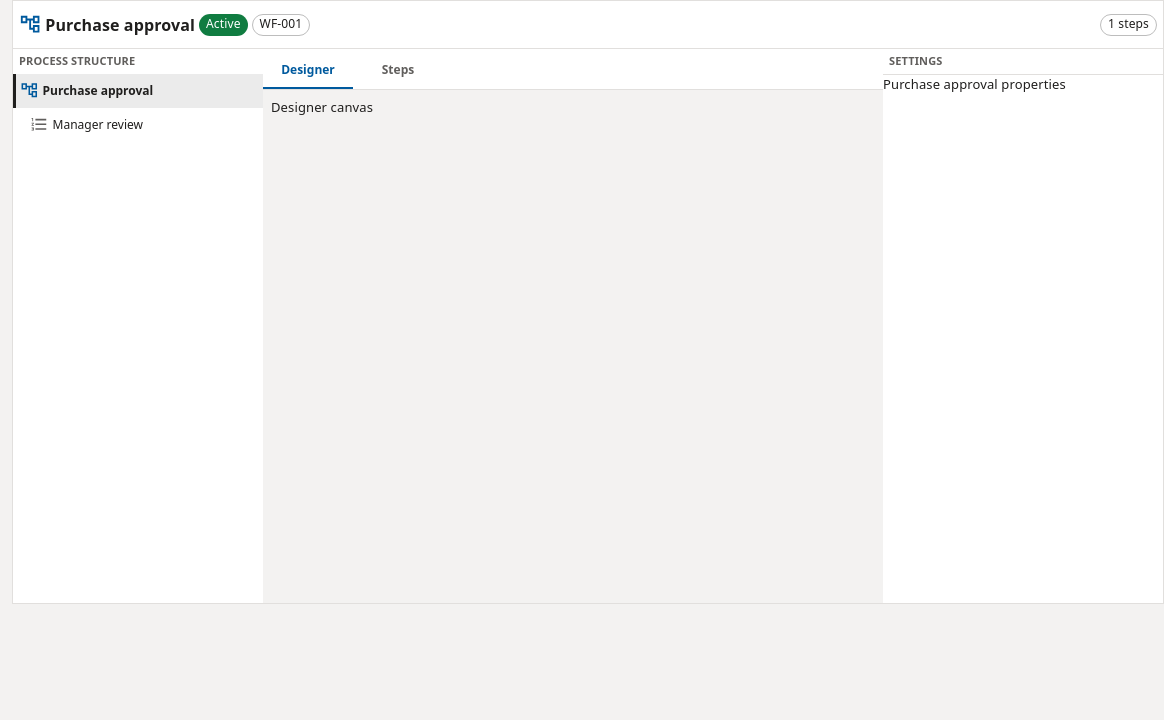
ProcessBuilderPage › connects tree selection, tabs, summary, and contextual properties
The image size is (1164, 720).
expect the heading "Purchase approval" is shown: met, box [45,12,195,36]
expect the text "1 steps" is shown: met, box [1108,15,1149,32]
Click the list item "Manager review" at (138, 124), box [13,108,263,142]
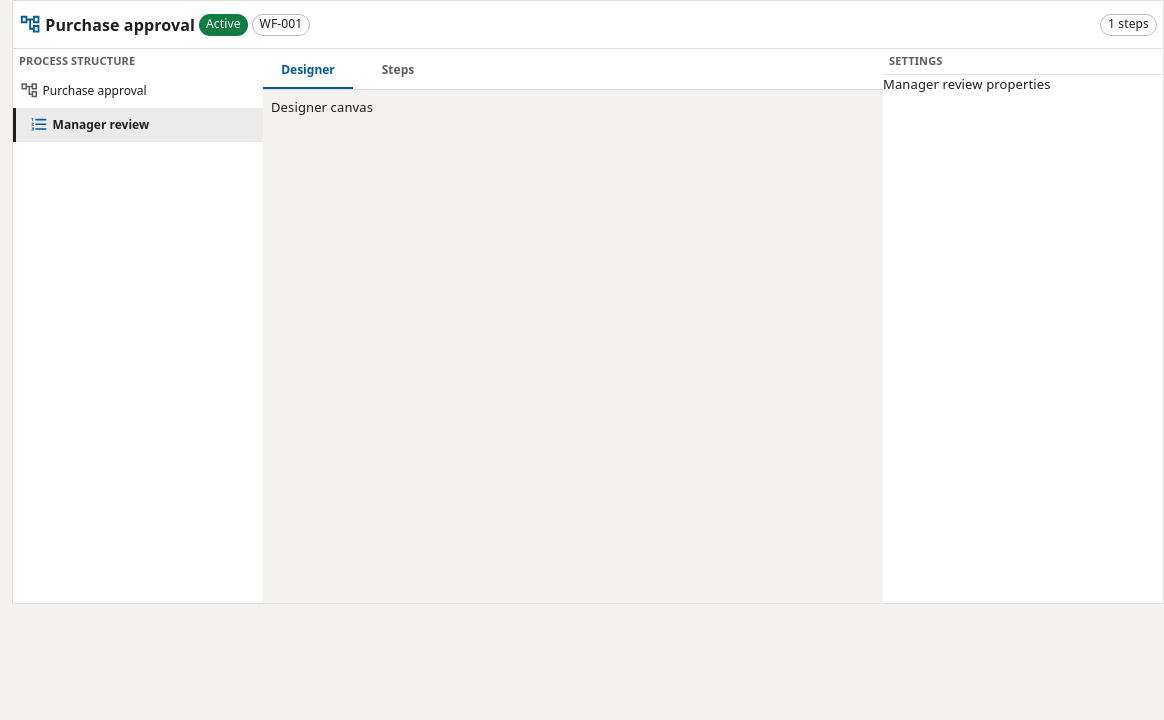
expect the text "Manager review properties" is shown: met, box [883,74,1051,92]
Click the tab "Steps" at (398, 69), box [353,49,443,89]
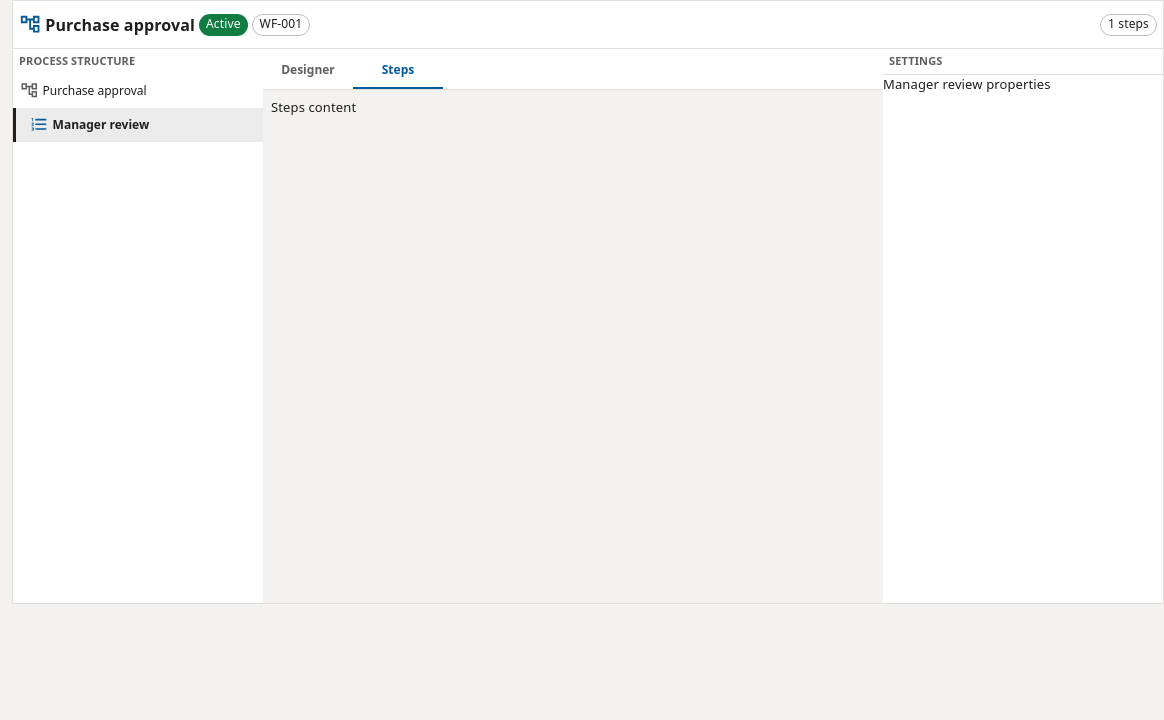
expect the text "Steps content" is shown: met, box [271,98,356,116]
